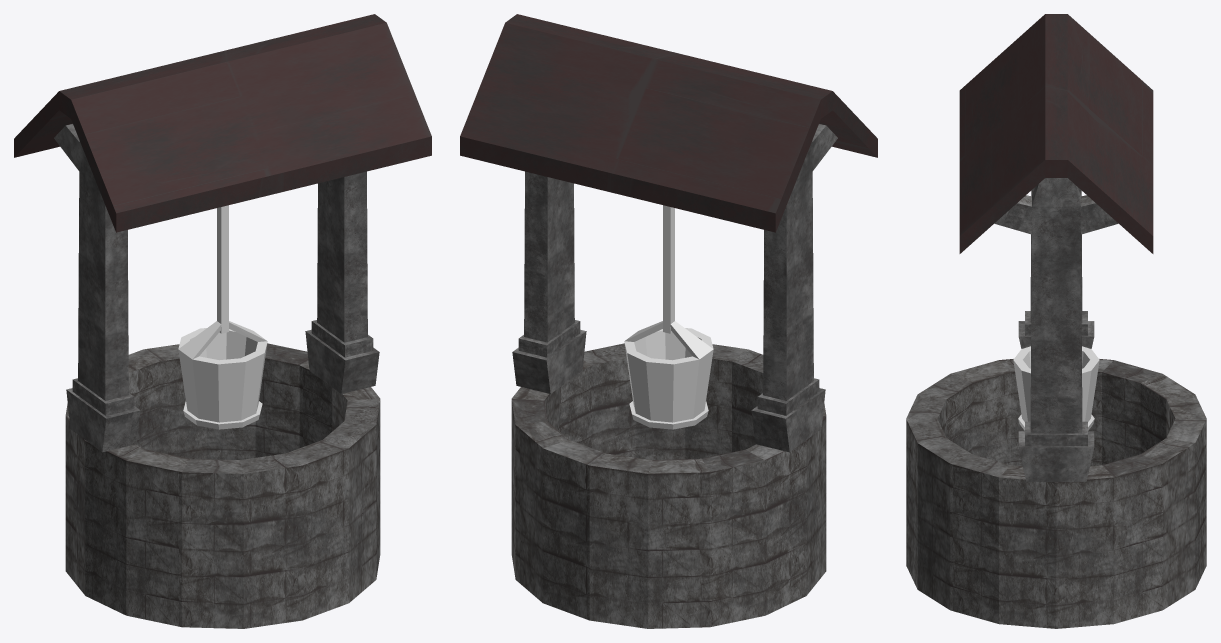
The model's file is Well-prop-changed.fbx.
The picture shows the model from 3 angles, left to right: view 1: azimuth 30°, elevation 25°; view 2: azimuth 150°, elevation 25°; view 3: azimuth 270°, elevation 25°; orthographic projection. The views are drawn at different scales.
Visible parts, largest first — view 1: Cylinder, bucket-low; view 2: Cylinder, bucket-low; view 3: Cylinder, bucket-low.
Boxes of the visible parts, x1,y1,x2,y2 form: Cylinder: [14, 14, 431, 628]; bucket-low: [178, 205, 267, 429]; Cylinder: [460, 14, 877, 628]; bucket-low: [624, 205, 713, 429]; Cylinder: [906, 14, 1206, 628]; bucket-low: [1013, 346, 1099, 430].
Size of the model in its own units: 138 by 212 by 121.
